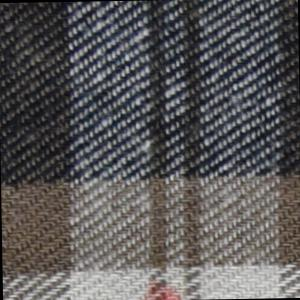Stain: (137, 273, 183, 300)
